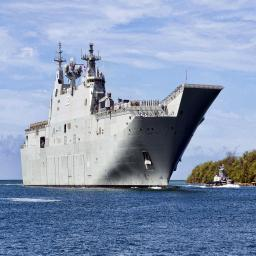Portanaves: (20, 42, 226, 194)
